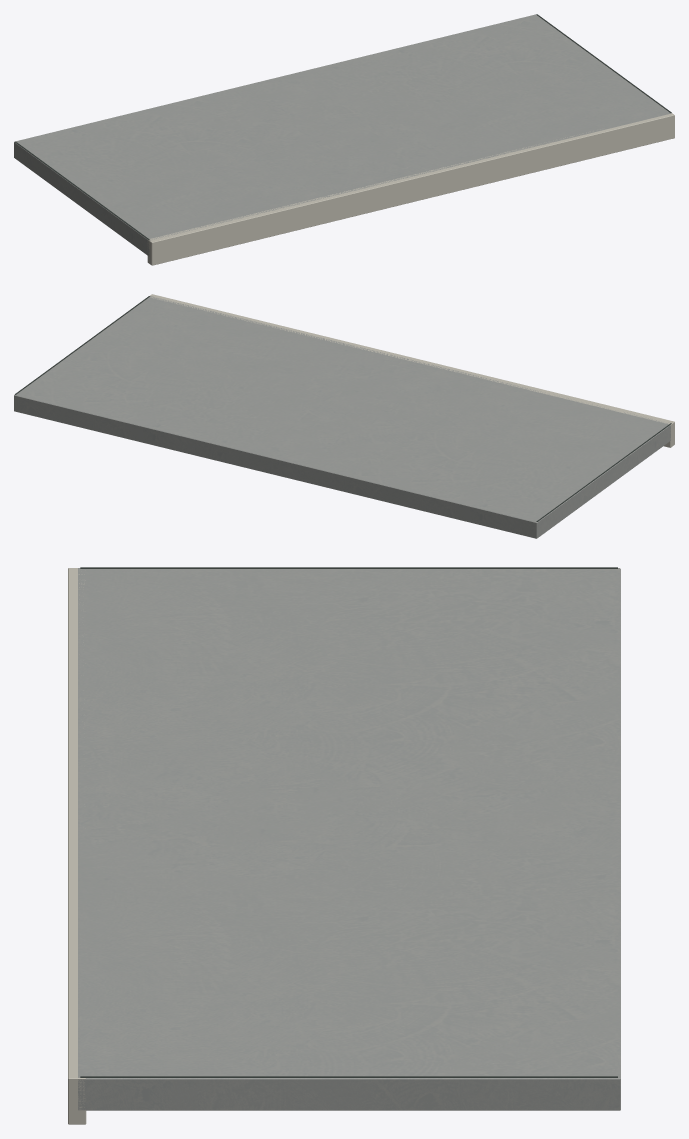
The model's file is gallery_walkway_4m_candidate.glb.
3 renders of one model, top to bottom at view 1: azimuth 30°, elevation 25°; view 2: azimuth 150°, elevation 25°; view 3: azimuth 270°, elevation 25°, orthographic. The views are drawn at different scales.
Parts seen in each view (by area): view 1: INSTANCE__gallery_walkway_4m__010; view 2: INSTANCE__gallery_walkway_4m__010; view 3: INSTANCE__gallery_walkway_4m__010.
Part boxes in pixels (x1,y1,x2,y2): INSTANCE__gallery_walkway_4m__010: (14,14,674,265); INSTANCE__gallery_walkway_4m__010: (14,294,674,538); INSTANCE__gallery_walkway_4m__010: (68,567,620,1124).
Bounding box in the file's own units: 4 × 0.172 × 1.83.
3 materials, 1 textured.
